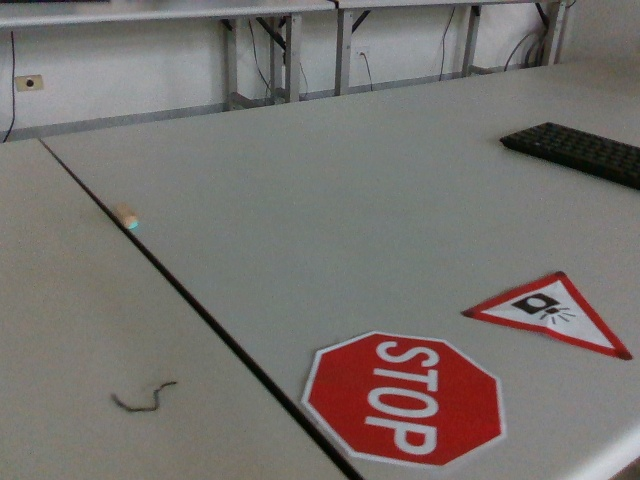camera: (464, 268, 632, 360)
stop: (301, 331, 510, 465)
